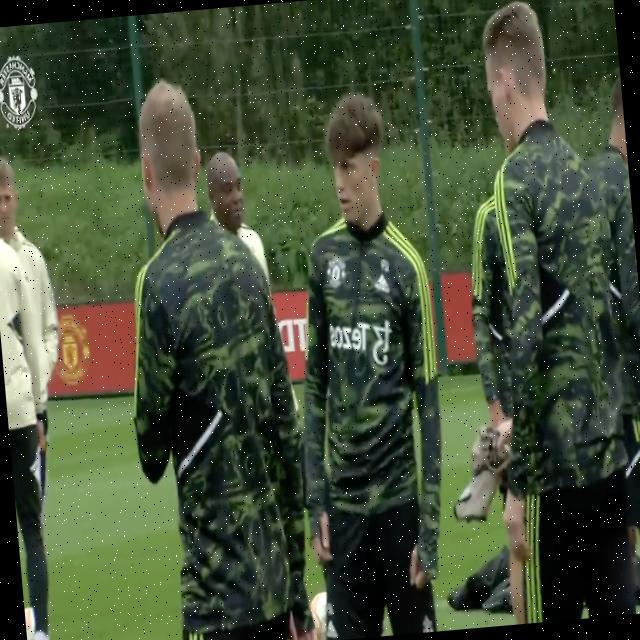Adidas: (372, 271, 390, 296)
